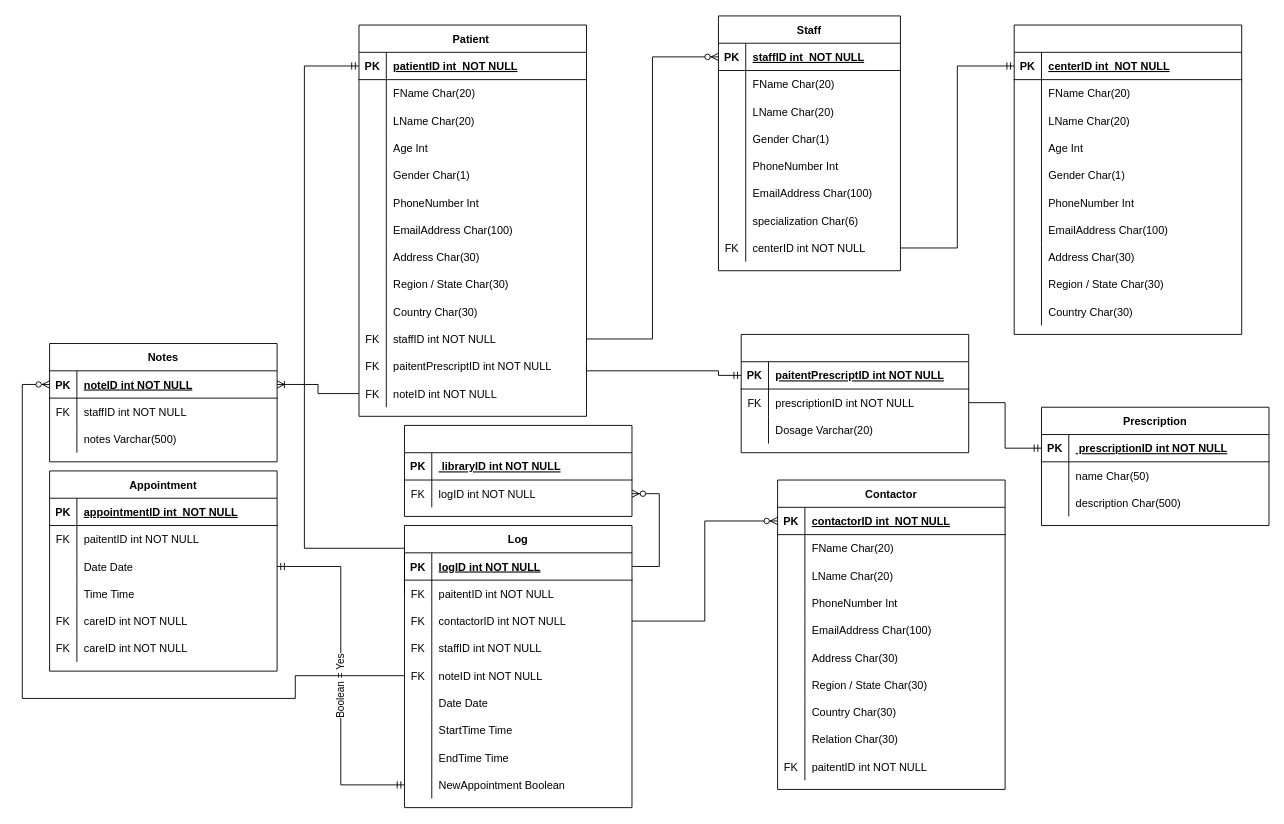
Some shapes in this 1284 by 824 pixel diagram are drawn without their labels. Each missing label, with the box of its shape:
LogLibrary: (404, 425, 632, 516)
Medical Center: (1013, 24, 1242, 334)
PaitentPrescription: (740, 334, 969, 453)
